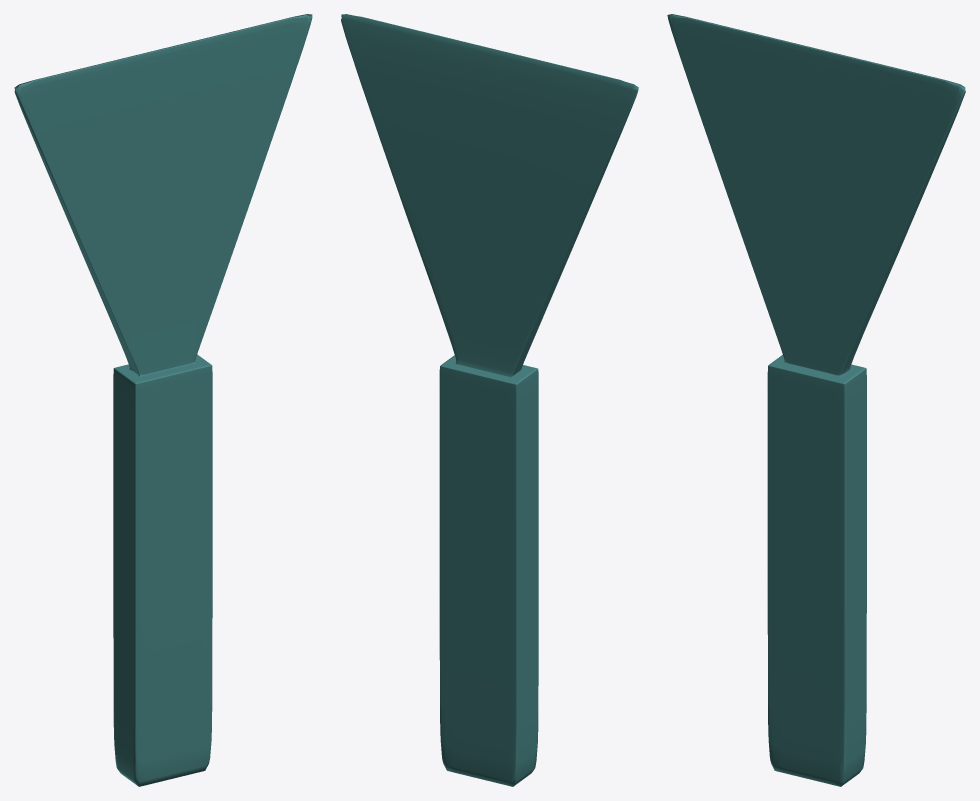
The model's file is SpatulaDiamond02.fbx.
3 renders of one model, left to right at view 1: azimuth 30°, elevation 25°; view 2: azimuth 150°, elevation 25°; view 3: azimuth 330°, elevation 25°, orthographic.
Parts seen in each view (by area): view 1: pasted__pasted__HighPoly2; view 2: pasted__pasted__HighPoly2; view 3: pasted__pasted__HighPoly2.
Boxes of the visible parts, x1,y1,x2,y2 form: pasted__pasted__HighPoly2: (14, 14, 312, 786); pasted__pasted__HighPoly2: (341, 14, 638, 786); pasted__pasted__HighPoly2: (667, 14, 965, 786).
Bounding box in the file's own units: 7.69 × 17.84 × 1.
